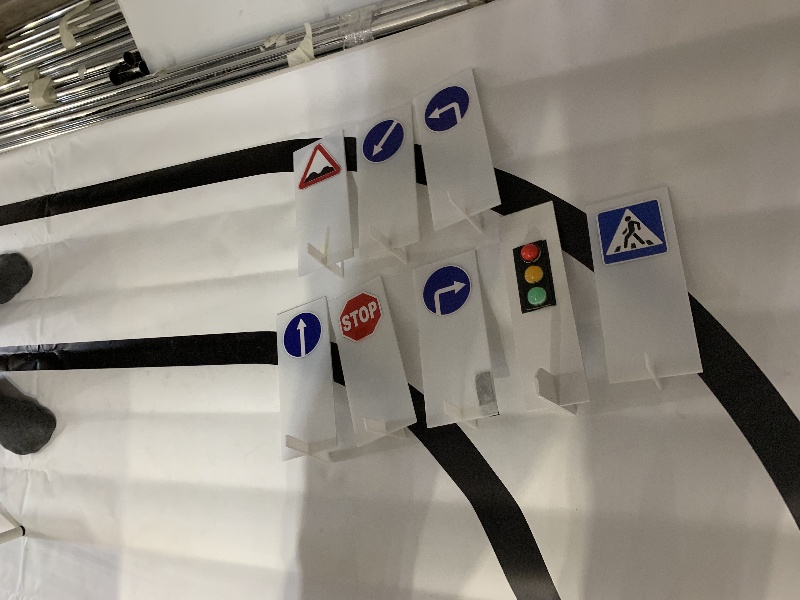Left: (424, 87, 469, 133)
Nerov: (300, 142, 341, 191)
Right: (422, 266, 470, 316)
Stop: (338, 292, 383, 340)
forw: (284, 313, 320, 358)
pesh: (596, 197, 670, 264)
prep: (362, 118, 404, 161)
